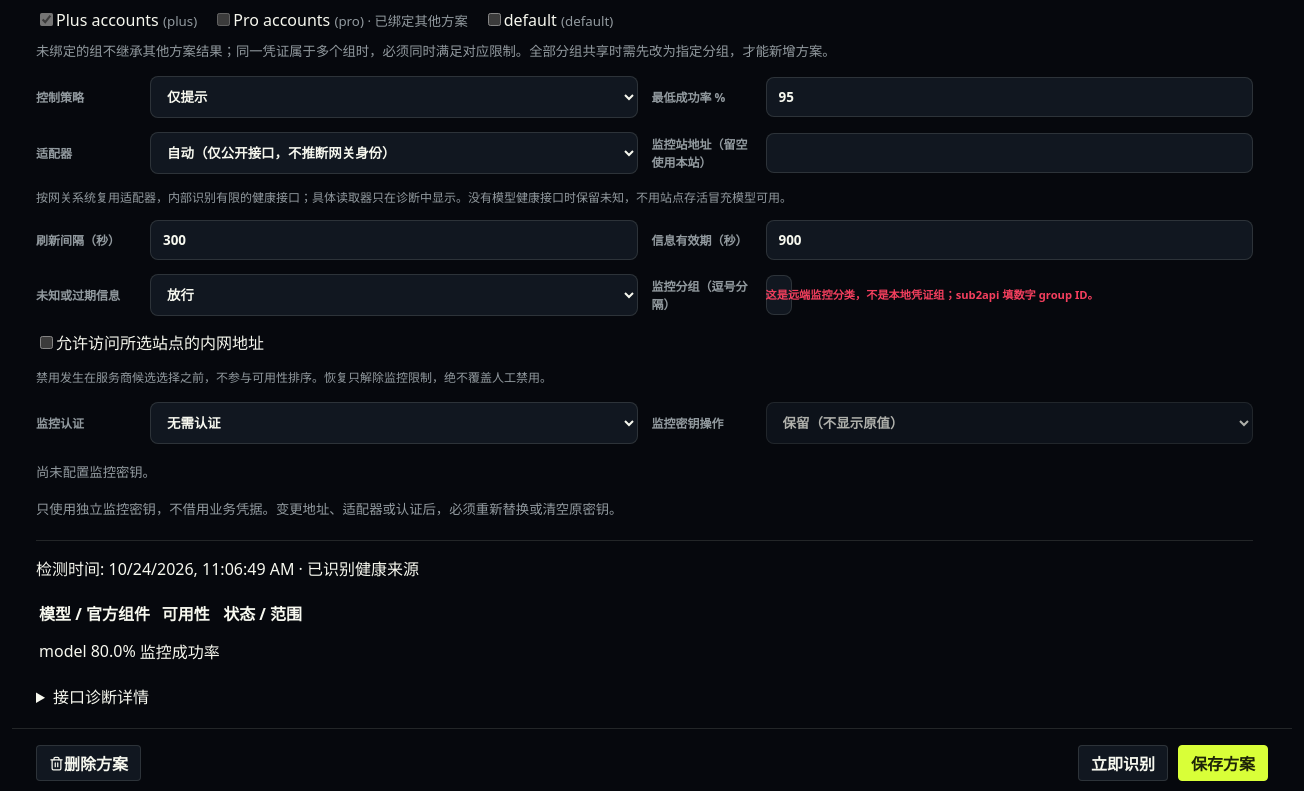
it: aborts an old manual refresh on profile change and does not mix late profile results
(page scrolled)
Expected: the text "80.0%" is shown, 90,638 -> 137,664
Click the button with aria-label "立即识别接口": (1123, 763) 1078,745 -> 1168,781
(page scrolled)
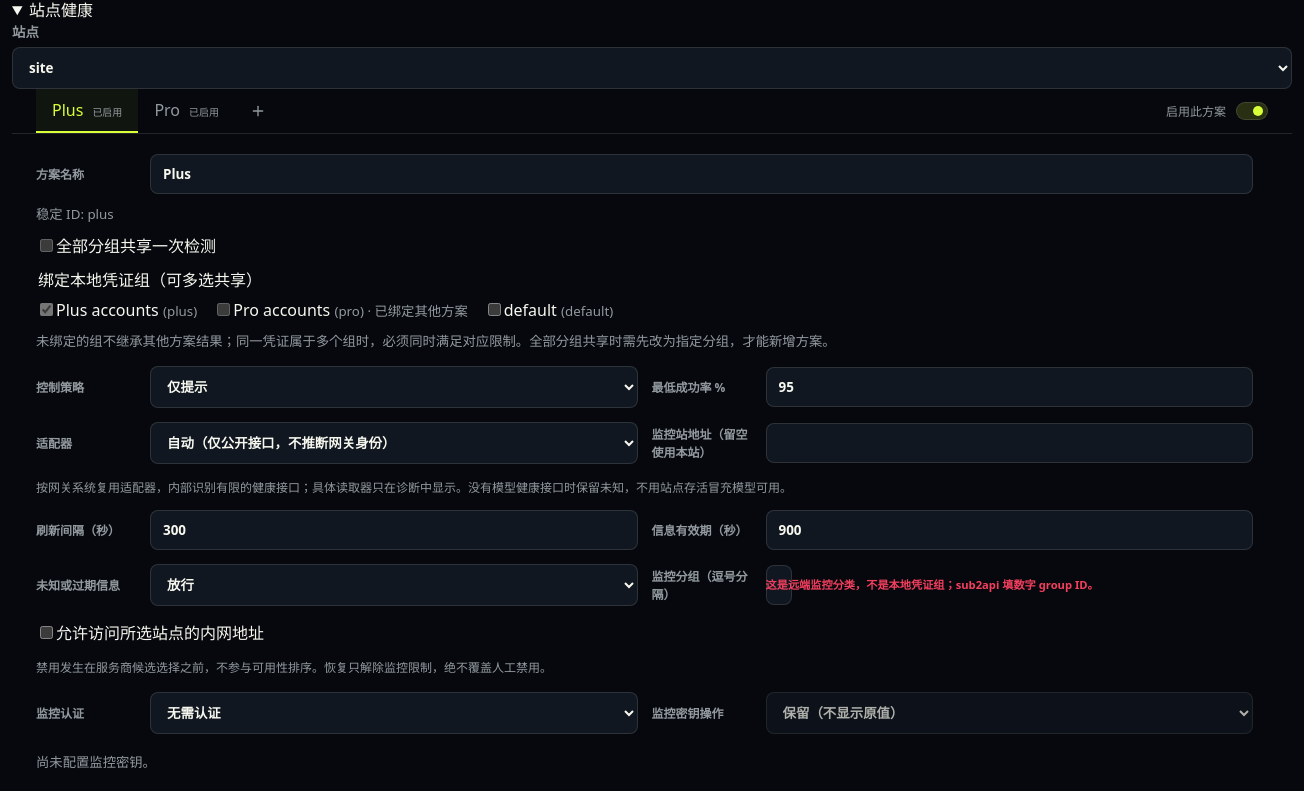
Press the mouse on the tab "Pro": (187, 111) 138,89 -> 235,133
(page scrolled)
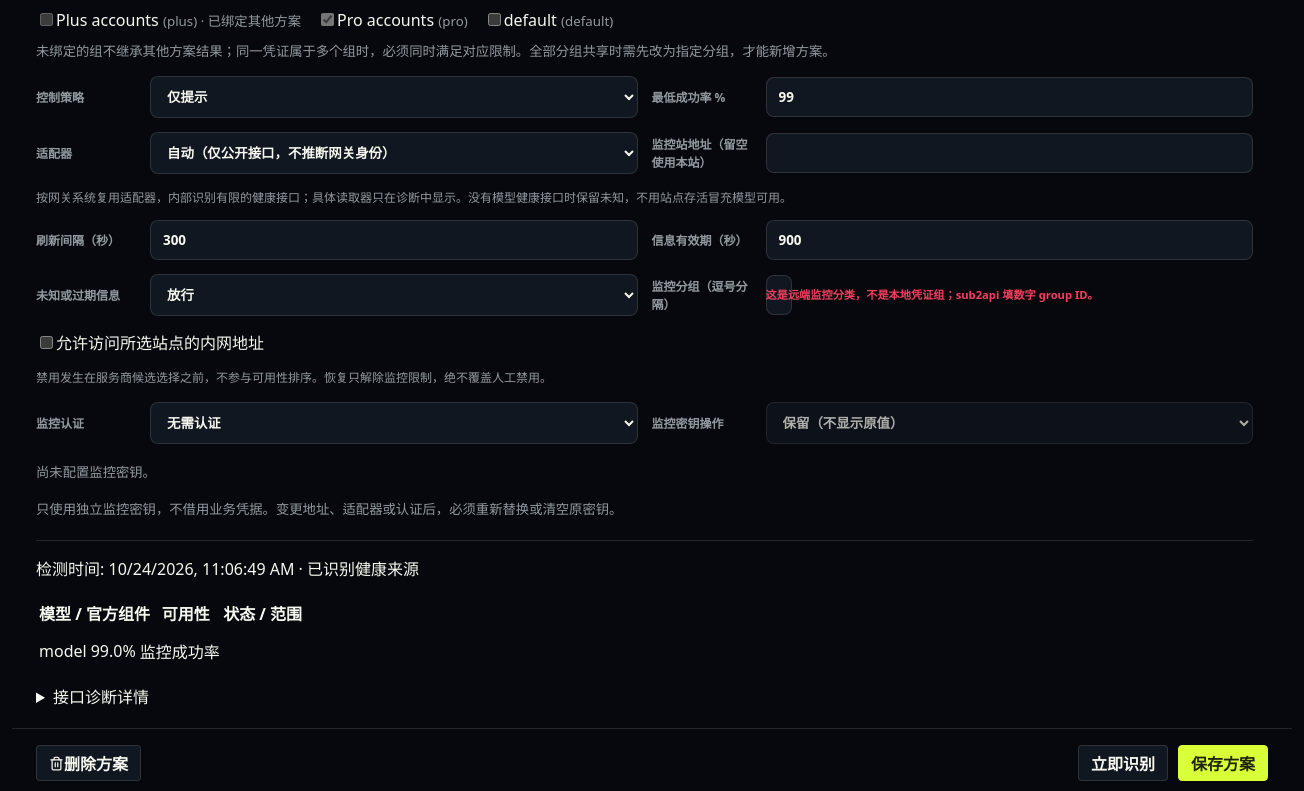
Now the text "99.0%" is shown, box 90,638 -> 137,664
